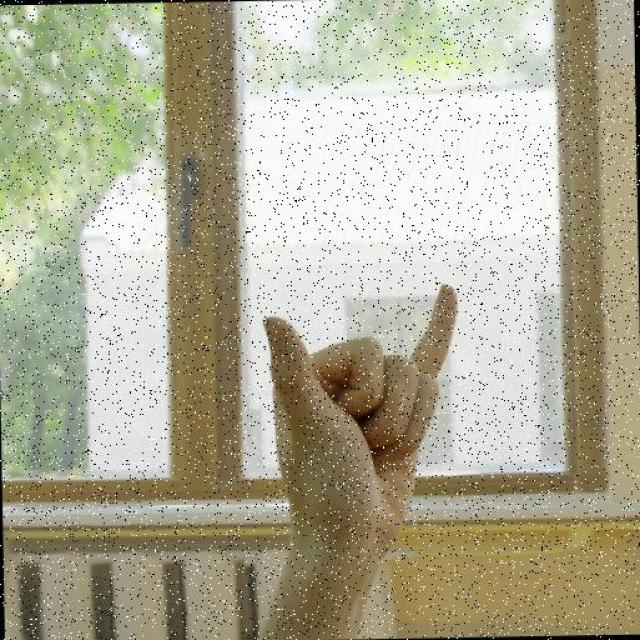Y: (257, 282, 468, 573)
